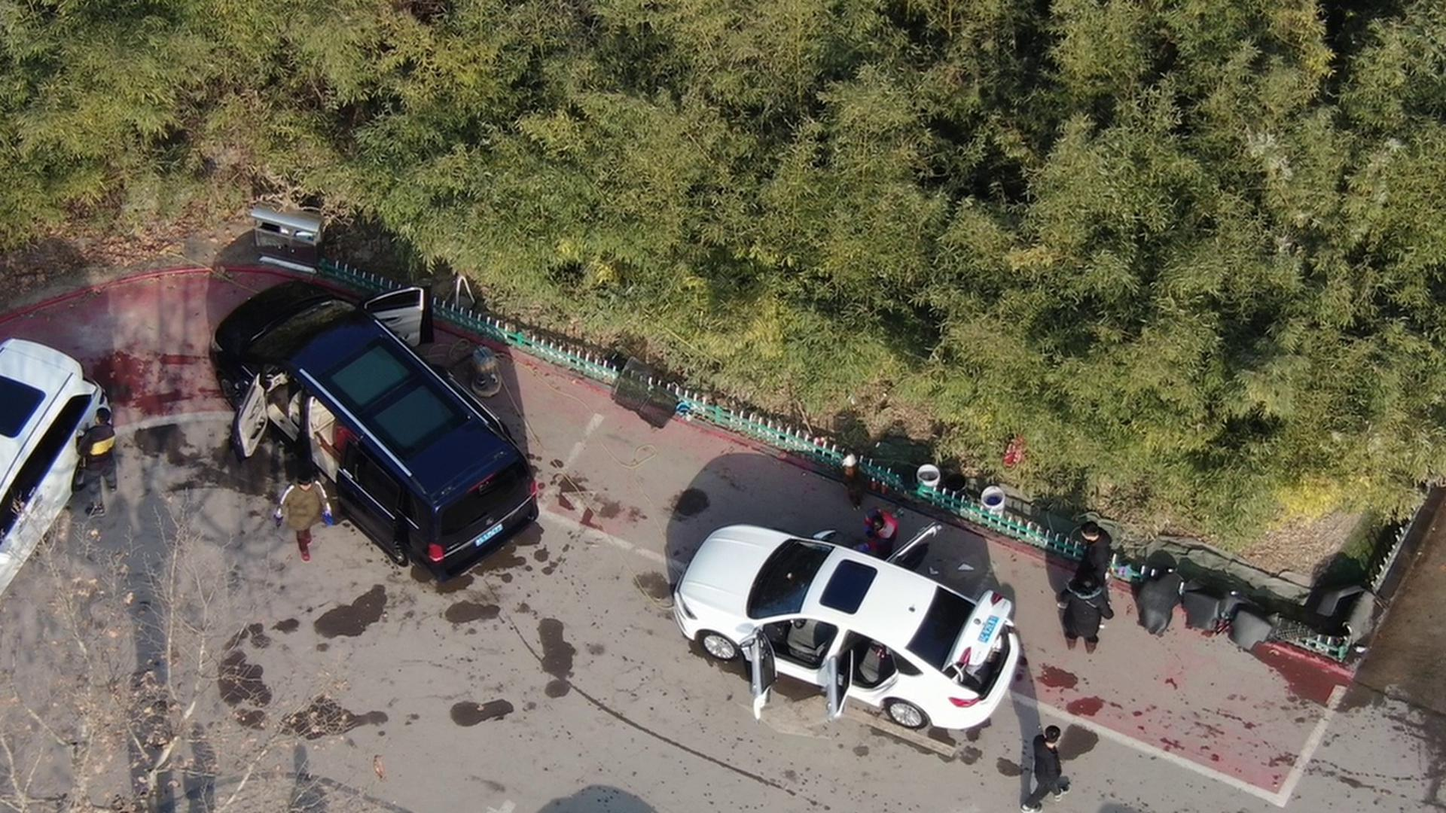human: (266, 458, 338, 554), (74, 408, 127, 517), (1013, 706, 1067, 806), (1057, 570, 1109, 653), (858, 500, 904, 560), (1070, 522, 1106, 572)
